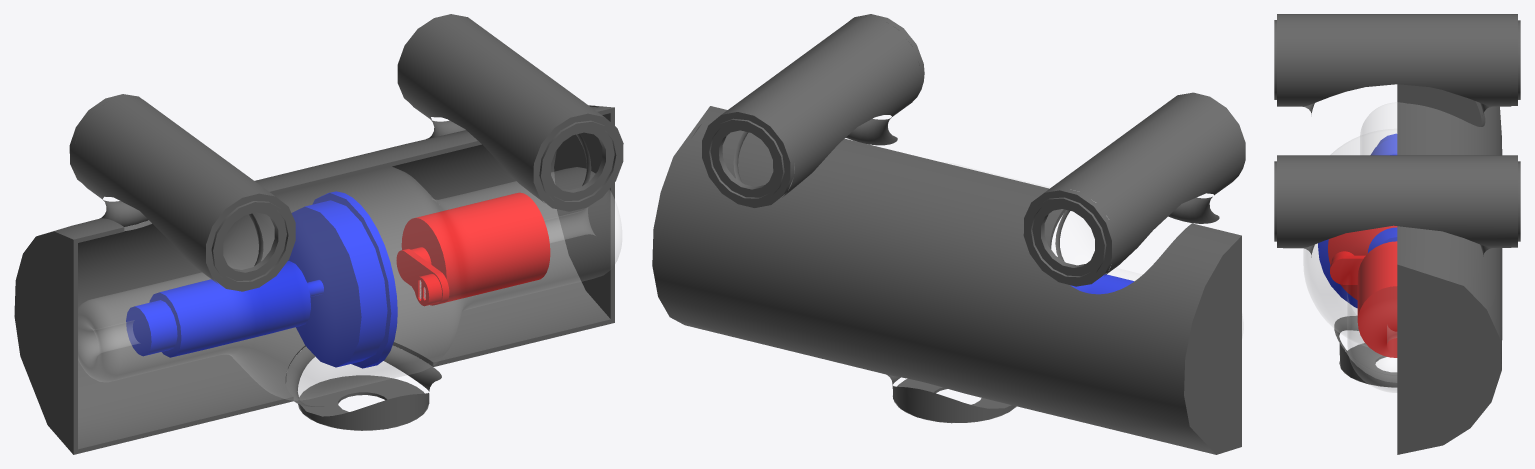
The model's file is xray_tube.glb.
The picture shows the model from 3 angles, left to right: view 1: azimuth 30°, elevation 25°; view 2: azimuth 150°, elevation 25°; view 3: azimuth 270°, elevation 25°; orthographic projection. The views are drawn at different scales.
Bounding box in the file's own units: 0.6364 × 0.3414 × 0.2831.
